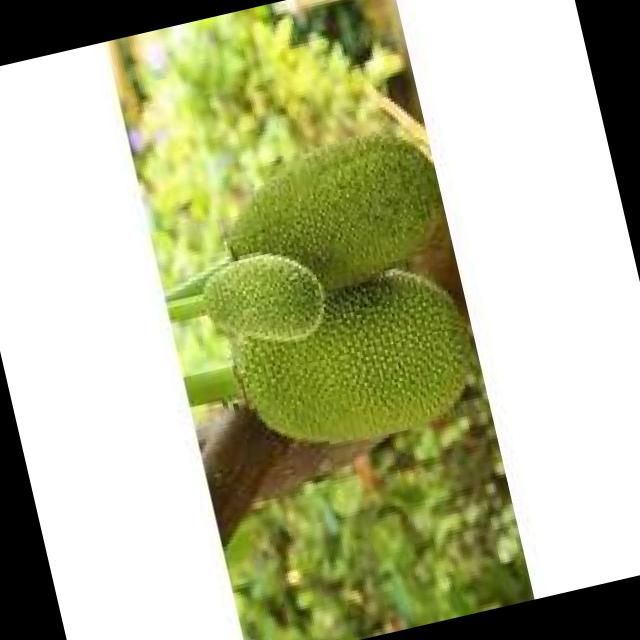Fruit: (185, 98, 460, 338), (204, 252, 490, 482)
